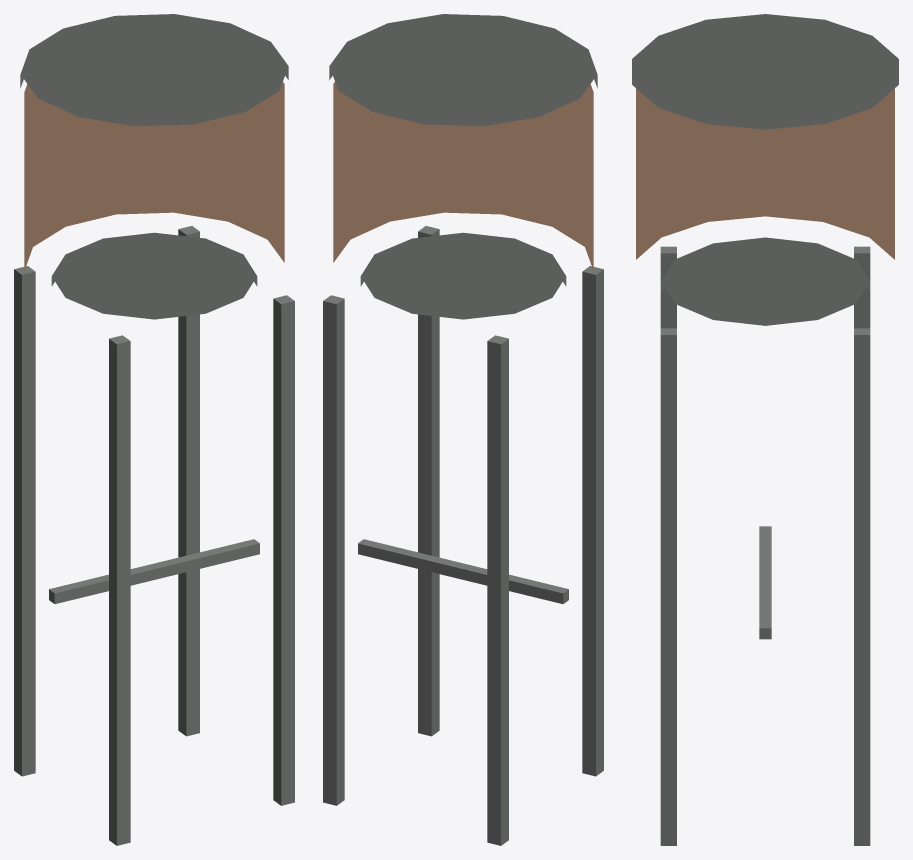
File: b_watertower.glb
3 views of the same model, side by side, from view 1: azimuth 30°, elevation 25°; view 2: azimuth 150°, elevation 25°; view 3: azimuth 270°, elevation 25° (orthographic).
Visible parts, largest first — view 1: body; view 2: body; view 3: body.
Boxes of the visible parts, bbox=[...] form: body: bbox=[14, 14, 294, 845]; body: bbox=[323, 14, 603, 845]; body: bbox=[632, 14, 898, 845].
Bounding box in the file's own units: 6.8 × 20 × 6.63.
